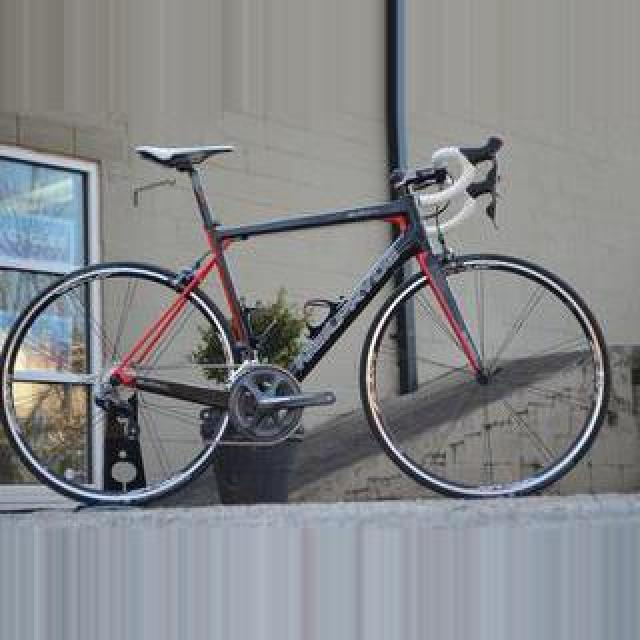Person: (0, 134, 610, 502)
